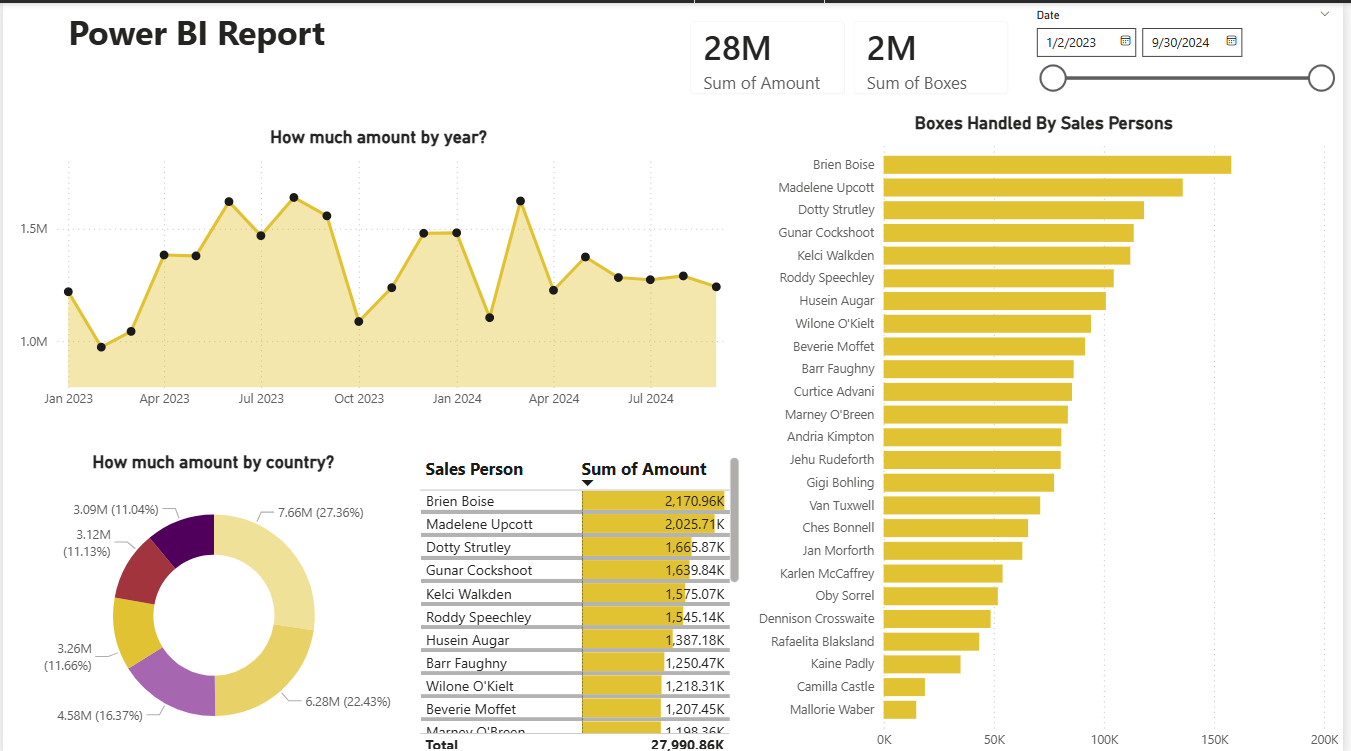

Layout of this report page (visuals, bound fields, positions):
{"tool":"powerbi","page":{"name":"Page 2","canvas":[1280,720],"ordinal":1},"visuals":[{"type":"lineChart","title":"How much amount by year?","fields":{"Category":["data.Date.Variation.Date Hierarchy.Year","data.Date.Variation.Date Hierarchy.Quarter","data.Date.Variation.Date Hierarchy.Month","data.Date.Variation.Date Hierarchy.Day"],"Y":["Sum(data.Amount)"]},"box":[9.8,117.1,697.8,278.1],"z":0},{"type":"donutChart","title":"How much amount by country?","fields":{"Category":["data.Country"],"Y":["Sum(data.Amount)"]},"box":[9.8,427.8,382.2,292.8],"z":1},{"type":"tableEx","fields":{"Values":["data.Sales Person","Sum(data.Amount)"]},"box":[392,427.8,315.5,292.8],"z":2},{"type":"clusteredBarChart","title":"Boxes Handled By Sales Persons","fields":{"Y":["Sum(data.Boxes)"],"Category":["data.Sales Person"]},"box":[707.5,104.1,572.5,616.5],"z":3},{"type":"cardVisual","fields":{"Data":["Sum(data.Amount)","Sum(data.Boxes)"]},"box":[639.2,0,339.9,104.1],"z":4},{"type":"slicer","fields":{"Values":["data.Date"]},"box":[974.3,0,305.8,104.1],"z":5},{"type":"textbox","box":[9.8,0,349.7,73.2],"z":6}]}

Visuals, with their boxes in screenshot pixels (x1, y1, x2, y2), scaled from the page's 1280x720 canvas onto the 1351x751 screenshot:
"How much amount by year?" lineChart: {"left": 10, "top": 122, "right": 747, "bottom": 412}
"How much amount by country?" donutChart: {"left": 10, "top": 446, "right": 414, "bottom": 750}
tableEx - data.Sales Person x Sum(data.Amount): {"left": 414, "top": 446, "right": 747, "bottom": 750}
"Boxes Handled By Sales Persons" clusteredBarChart: {"left": 747, "top": 109, "right": 1350, "bottom": 750}
cardVisual - Sum(data.Amount) x Sum(data.Boxes): {"left": 675, "top": 0, "right": 1033, "bottom": 109}
slicer - data.Date: {"left": 1028, "top": 0, "right": 1350, "bottom": 109}
textbox: {"left": 10, "top": 0, "right": 379, "bottom": 76}
